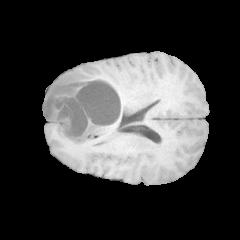glioma: (42, 72, 126, 143)
